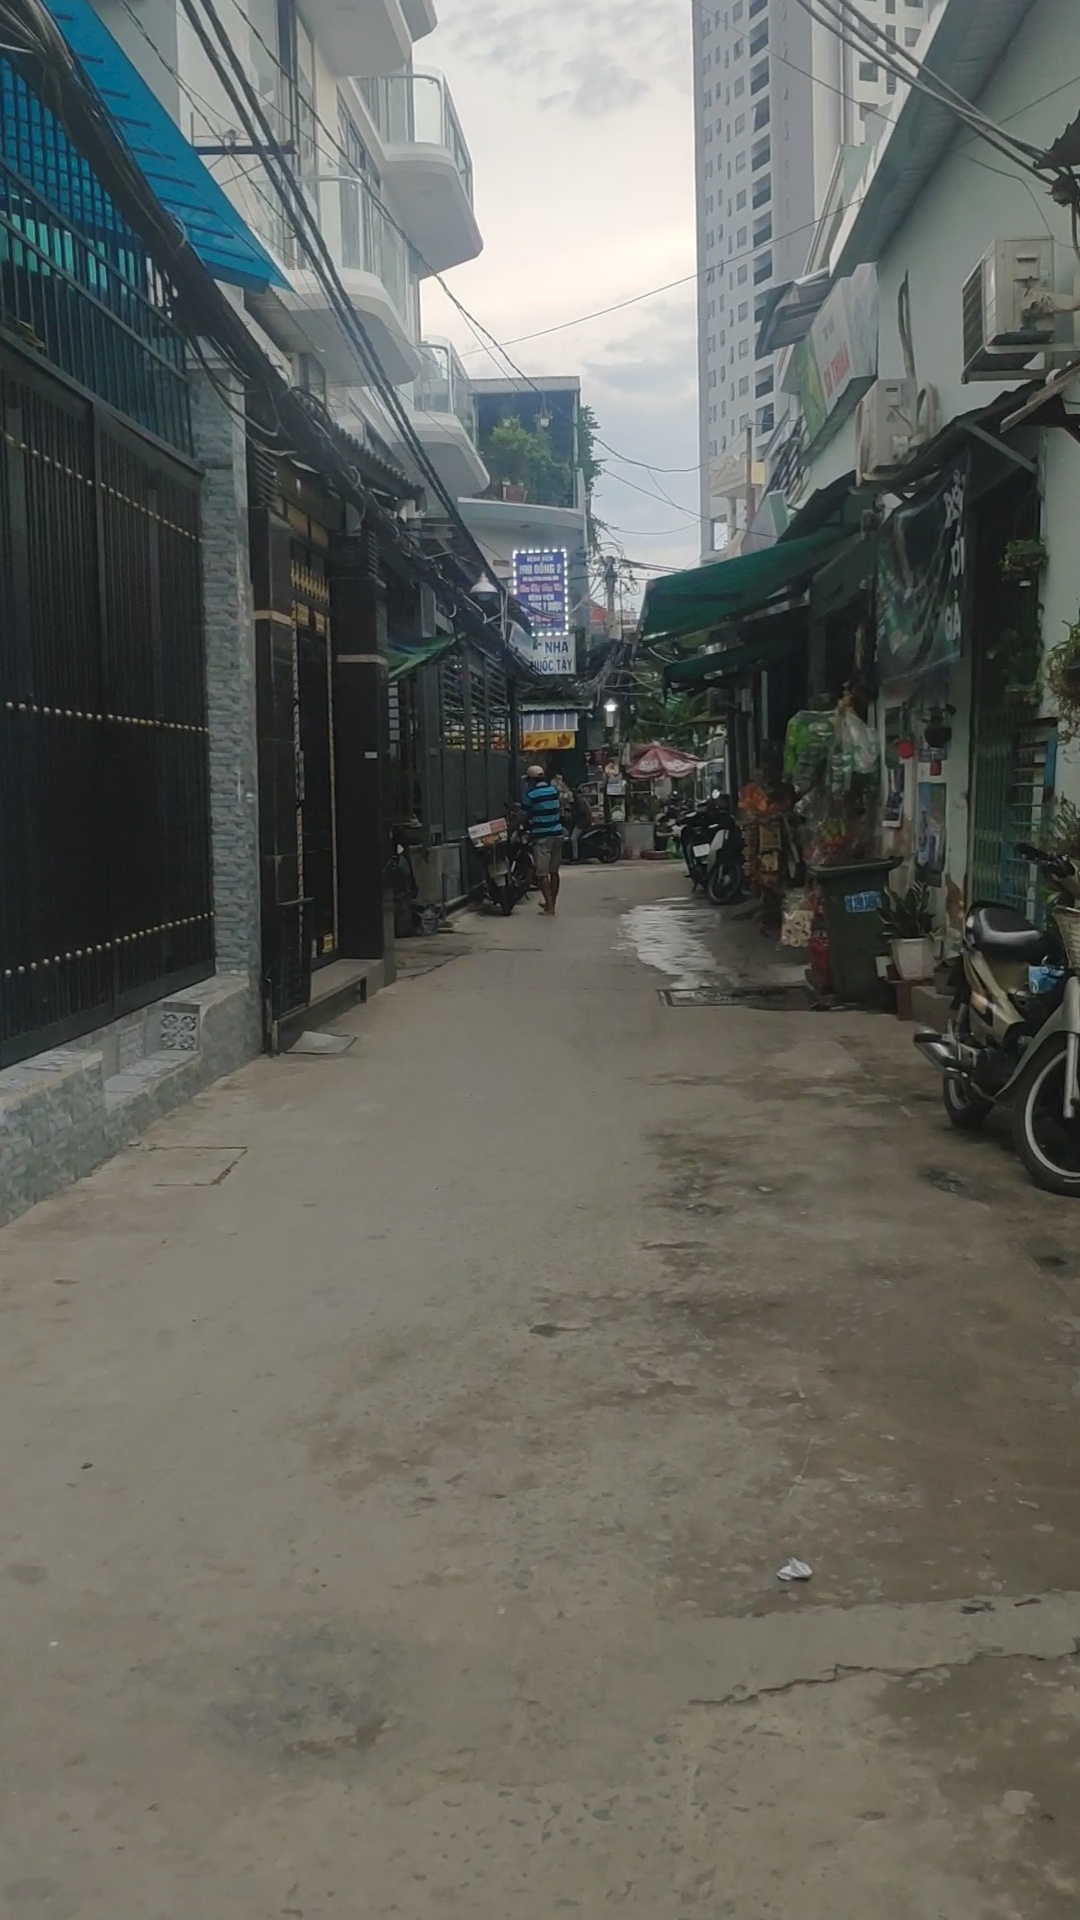hole: (641, 1135, 752, 1222), (913, 1162, 989, 1207)
